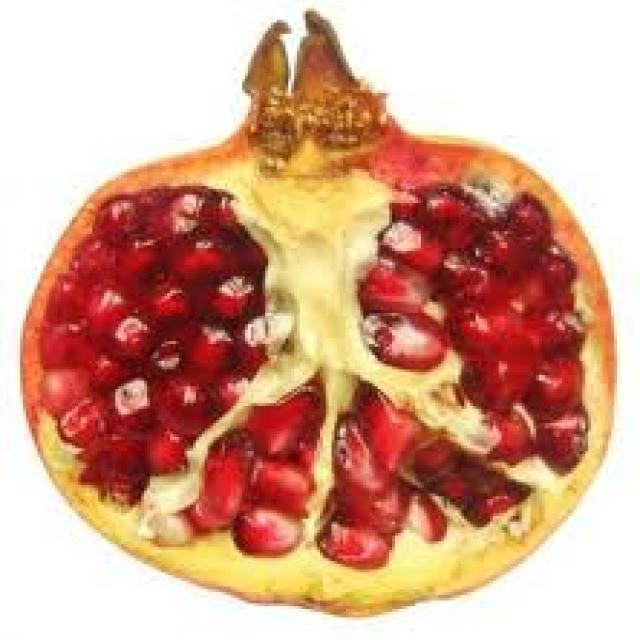Pomegranate: (21, 6, 632, 614)
